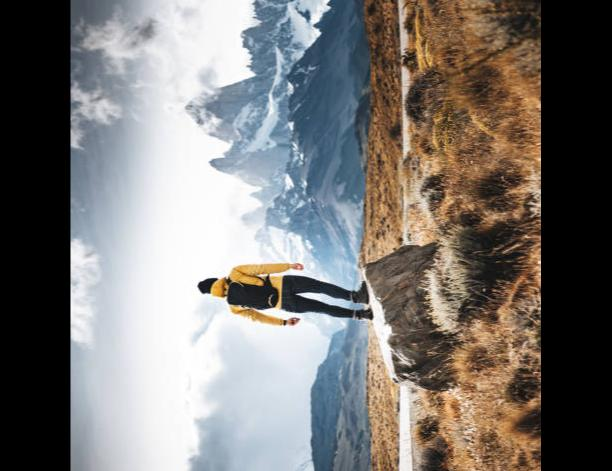Non_Gorille: (70, 0, 541, 471)
